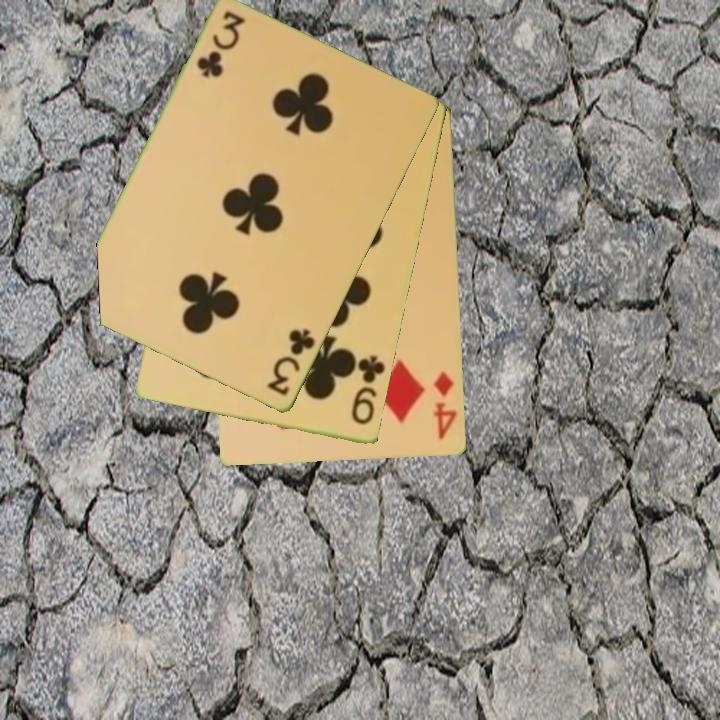3c: (193, 8, 248, 82), (264, 326, 319, 399)
4d: (430, 369, 461, 442)
9c: (348, 352, 388, 428)
